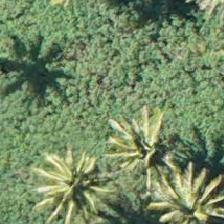coconut_tree: (95, 104, 185, 194), (26, 143, 116, 223), (140, 155, 223, 223)
